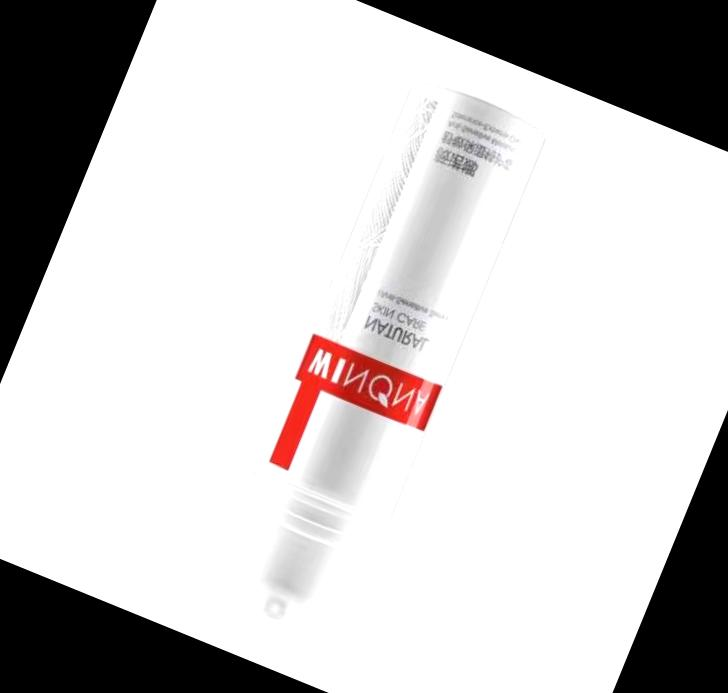cosmetic: (198, 70, 552, 660)
